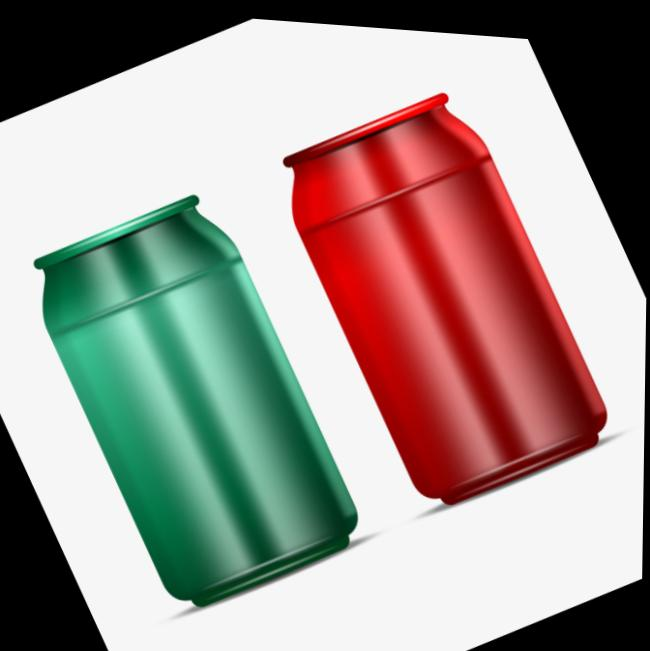metal: (283, 94, 604, 502), (35, 196, 355, 604)
